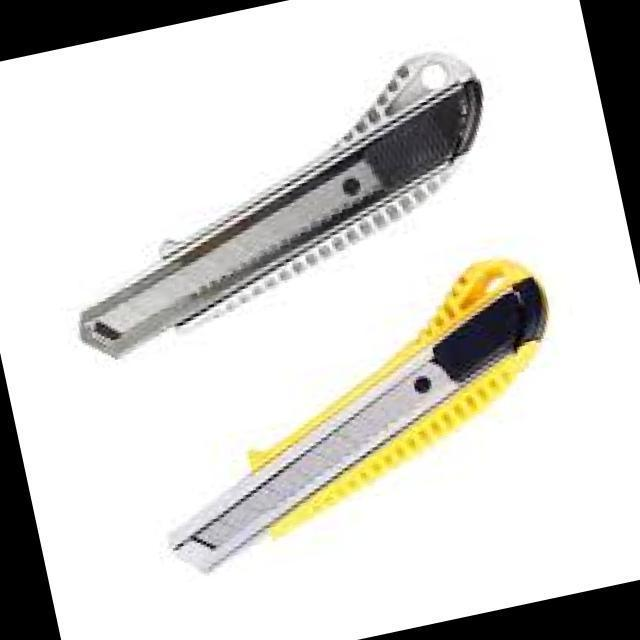cutter: (26, 24, 536, 380), (115, 243, 602, 601)
